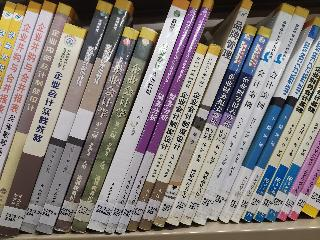book-spine: (105, 0, 213, 235), (87, 0, 192, 233), (153, 0, 255, 227), (193, 2, 296, 226), (204, 5, 310, 222), (36, 0, 131, 234), (20, 0, 113, 235), (218, 15, 320, 224), (0, 21, 90, 240), (68, 25, 158, 236), (179, 24, 271, 226), (167, 23, 257, 226), (54, 25, 139, 235), (230, 31, 320, 224), (134, 42, 224, 232), (125, 43, 209, 234), (0, 1, 73, 217), (242, 52, 320, 222), (0, 0, 56, 180), (252, 83, 320, 222), (265, 108, 320, 223), (0, 0, 43, 132), (276, 132, 320, 221)
